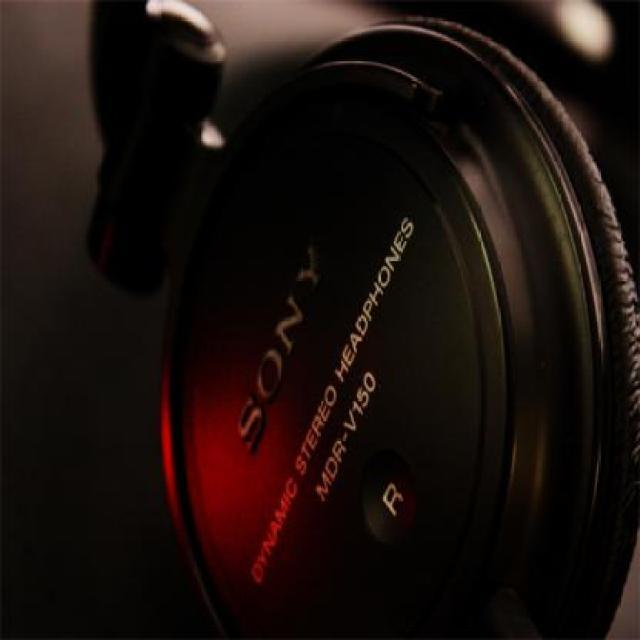earphone: (96, 15, 640, 640)
